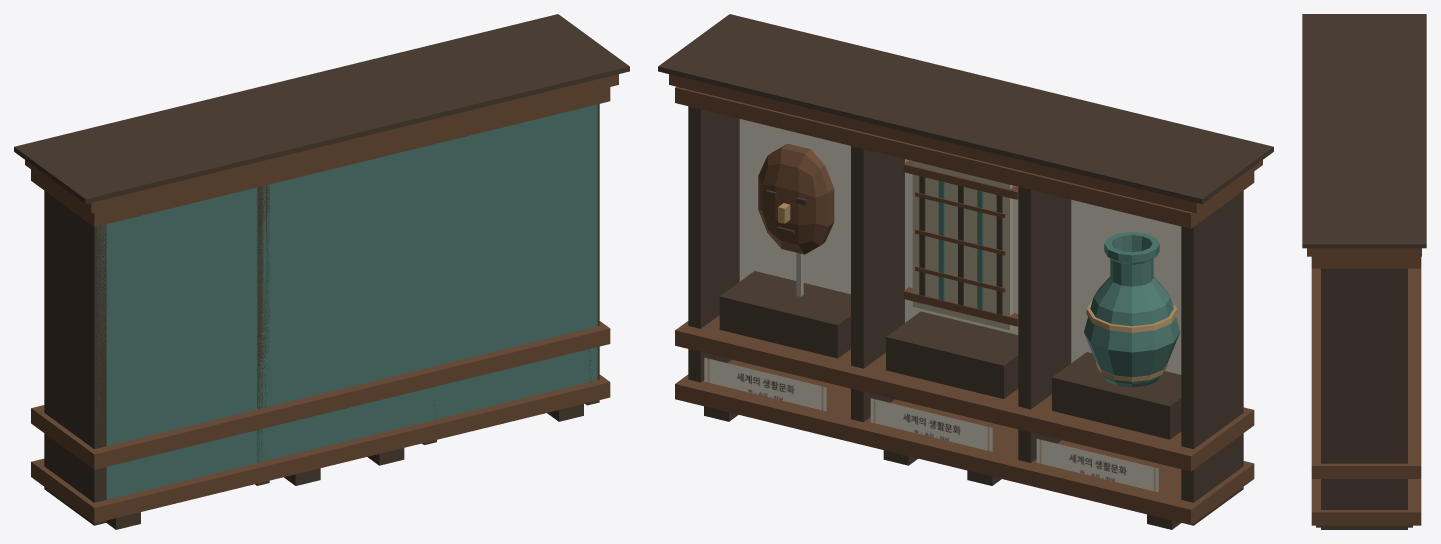
The model's file is N09_International_Culture_Wall.fbx.
3 renders of one model, left to right at view 1: azimuth 30°, elevation 25°; view 2: azimuth 150°, elevation 25°; view 3: azimuth 270°, elevation 25°, orthographic. The views are drawn at different scales.
Parts seen in each view (by area): view 1: Structure; view 2: Structure, Textile_Exhibit, Ceramic_Exhibit, Carved_Mask_Exhibit; view 3: Structure.
Part boxes in pixels (bbox=[...]): Structure: bbox=[14, 14, 629, 529]; Structure: bbox=[658, 14, 1273, 529]; Textile_Exhibit: bbox=[903, 160, 1018, 330]; Ceramic_Exhibit: bbox=[1084, 232, 1180, 387]; Carved_Mask_Exhibit: bbox=[758, 143, 834, 296]; Structure: bbox=[1302, 14, 1426, 529].
Size of the model in its own units: 5.21 by 3.16 by 1.19.
Materials: 8 (1 with a texture image).
